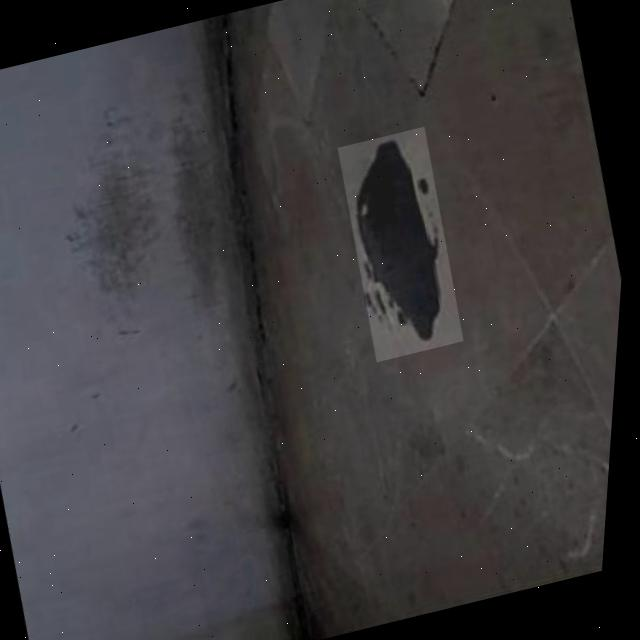spillage: (354, 139, 451, 348)
